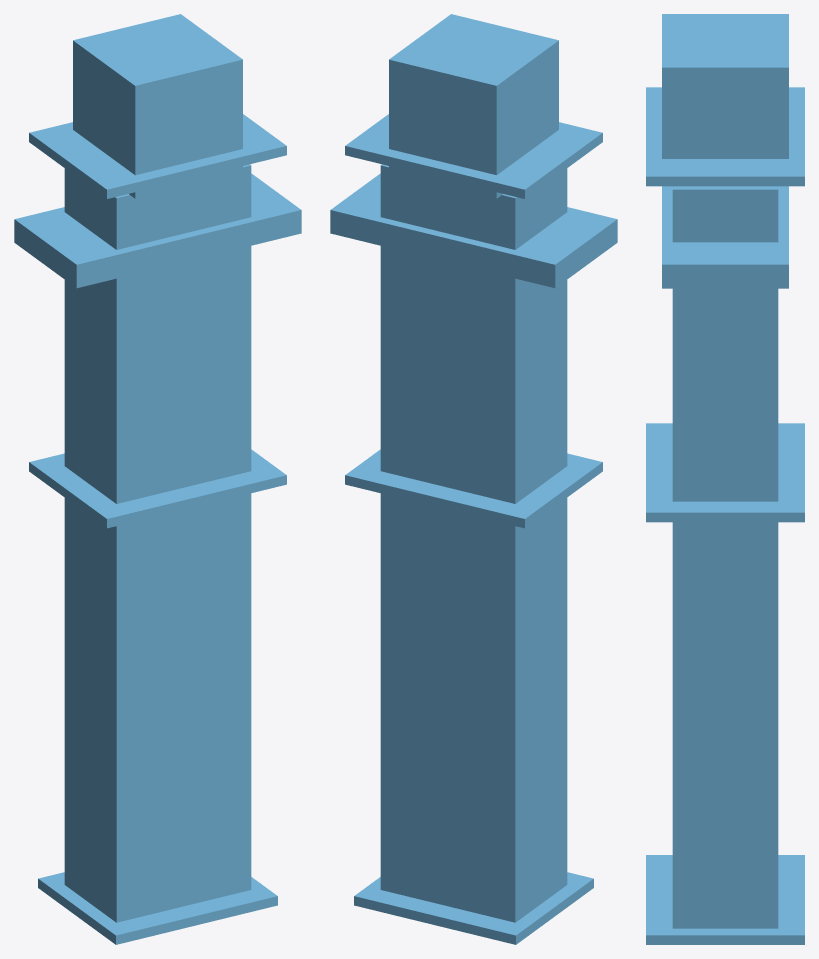
File: human_gauge_1p8m.glb
The picture shows the model from 3 angles, left to right: view 1: azimuth 30°, elevation 25°; view 2: azimuth 150°, elevation 25°; view 3: azimuth 270°, elevation 25°; orthographic projection. The views are drawn at different scales.
Visible parts, largest first — view 1: human_gauge_1p8m; view 2: human_gauge_1p8m; view 3: human_gauge_1p8m.
Boxes of the visible parts, x1,y1,x2,y2 form: human_gauge_1p8m: [14, 14, 301, 944]; human_gauge_1p8m: [330, 14, 617, 944]; human_gauge_1p8m: [646, 14, 804, 944].
Bounding box in the file's own units: 0.5 × 1.8 × 0.3.
